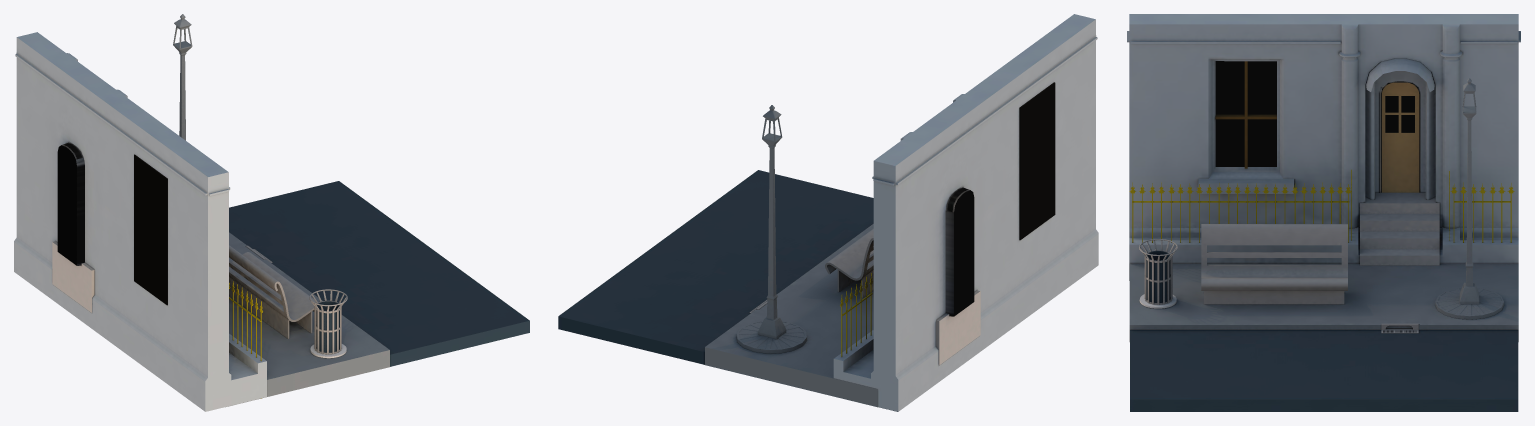
File: Rue.fbx
3 views of the same model, side by side, from view 1: azimuth 30°, elevation 25°; view 2: azimuth 150°, elevation 25°; view 3: azimuth 270°, elevation 25° (orthographic). The views are drawn at different scales.
Visible parts, largest first — view 1: Structure_1, route_1, Trottoir_1, Fenetre__1, Banc_1, Escaliers_1, Armature_Poubelle_1, lampadaire_1, Barriere_1, Conteneur_Poubelle_1; view 2: Structure_1, route_1, Trottoir_1, Fenetre__1, lampadaire_1, Escaliers_1, Banc_1, Socle_lampadaire_1, Barriere_1; view 3: Structure_1, route_1, Trottoir_1, Banc_1, Fenetre__1, Escaliers_1, Barriere_1, Porte_1, lampadaire_1, Socle_lampadaire_1, Armature_Poubelle_1, Conteneur_Poubelle_1 (+1 smaller).
Part boxes in pixels (x1,y1,x2,y2): Structure_1: [14, 32, 266, 411]; route_1: [229, 181, 529, 366]; Trottoir_1: [225, 232, 389, 407]; Fenetre__1: [134, 154, 167, 305]; Banc_1: [229, 245, 318, 338]; Escaliers_1: [52, 241, 94, 312]; Armature_Poubelle_1: [309, 289, 347, 354]; lampadaire_1: [173, 14, 192, 140]; Barriere_1: [229, 281, 262, 398]; Conteneur_Poubelle_1: [316, 301, 339, 352]; Structure_1: [833, 14, 1098, 411]; route_1: [558, 170, 897, 411]; Trottoir_1: [705, 224, 877, 407]; Fenetre__1: [1019, 82, 1055, 240]; lampadaire_1: [757, 105, 786, 339]; Escaliers_1: [936, 290, 980, 365]; Banc_1: [825, 229, 873, 297]; Socle_lampadaire_1: [736, 320, 806, 353]; Barriere_1: [840, 273, 872, 356]; Structure_1: [1127, 14, 1520, 280]; route_1: [1130, 328, 1518, 411]; Trottoir_1: [1129, 264, 1518, 341]; Banc_1: [1201, 224, 1347, 304]; Fenetre__1: [1215, 61, 1276, 166]; Escaliers_1: [1360, 192, 1439, 265]; Barriere_1: [1129, 169, 1514, 242]; Porte_1: [1382, 82, 1419, 192]; lampadaire_1: [1459, 78, 1479, 304]; Socle_lampadaire_1: [1435, 287, 1503, 319]; Armature_Poubelle_1: [1139, 239, 1177, 304]; Conteneur_Poubelle_1: [1146, 251, 1170, 302].
Bounding box in the file's own units: 584 × 413 × 594.
